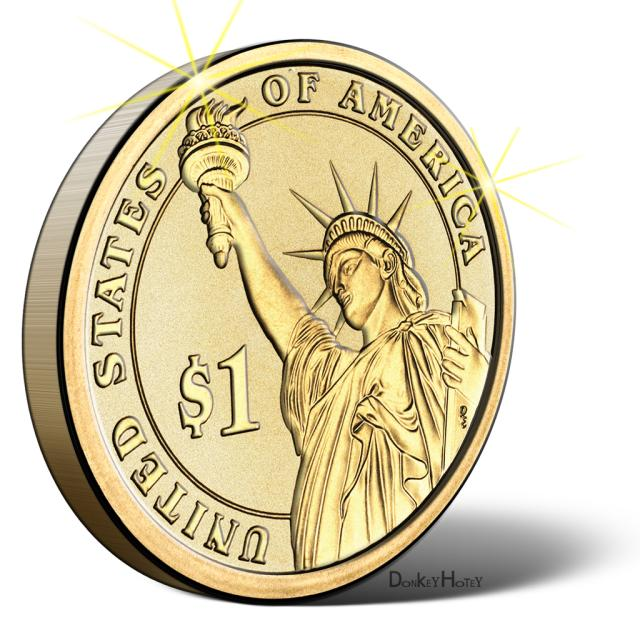Coin: (24, 36, 519, 605)
